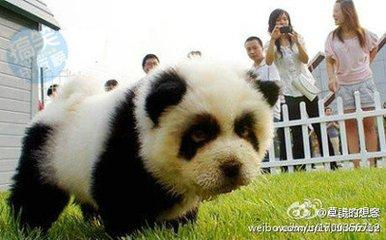panda: (6, 53, 279, 240)
